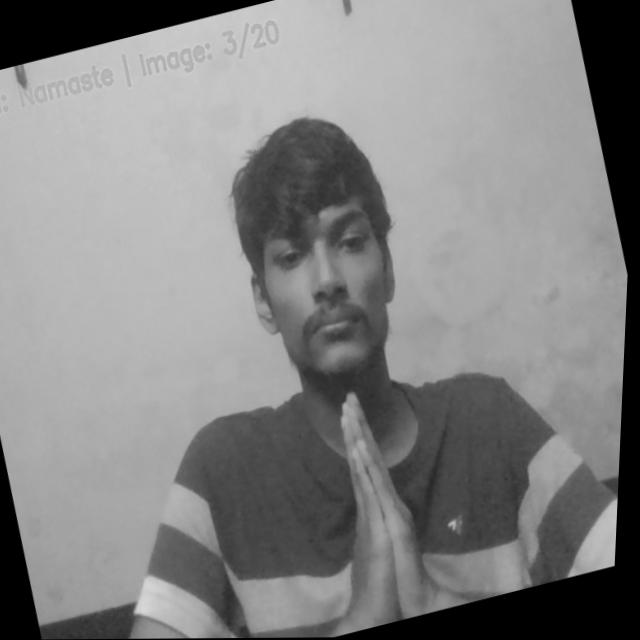Namaste: (302, 374, 463, 630)
